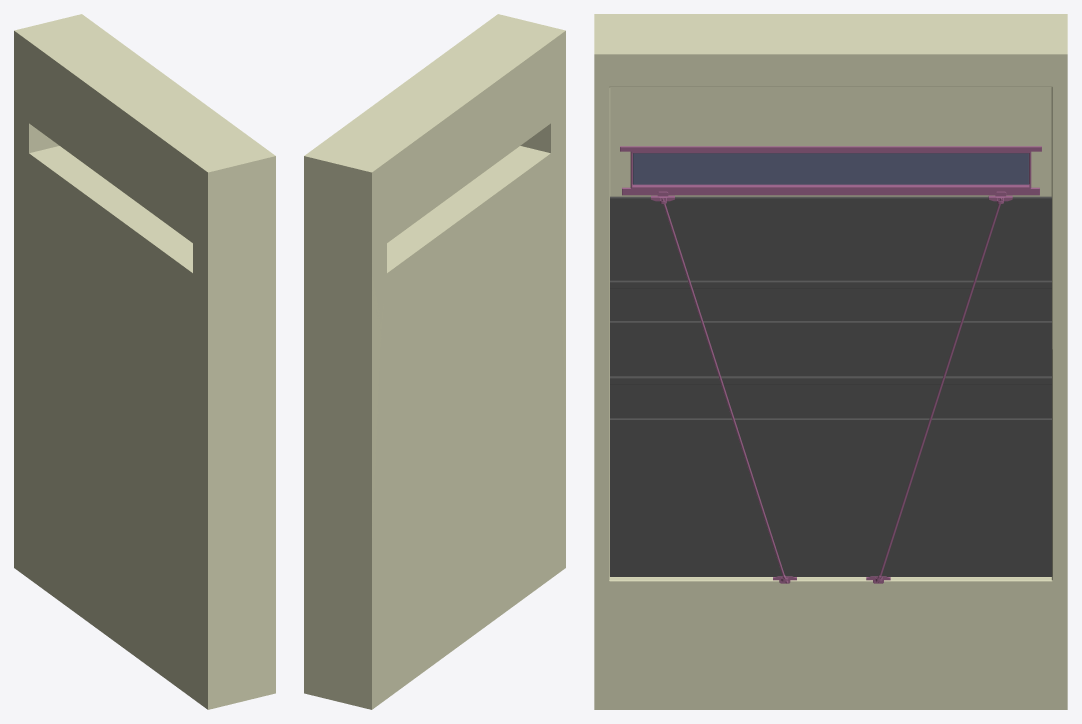
The model's file is wall_plain_Type_B_GRP.fbx.
3 renders of one model, left to right at view 1: azimuth 30°, elevation 25°; view 2: azimuth 150°, elevation 25°; view 3: azimuth 270°, elevation 25°, orthographic. The views are drawn at different scales.
Parts seen in each view (by area): view 1: main_Wall, wall_foundation; view 2: main_Wall, wall_foundation; view 3: wall_protection, main_Wall, wall_foundation, window_glass, window_pane, window_reachers.
Boxes of the visible parts, <box> form: main_Wall: <box>14,14,275,644</box>; wall_foundation: <box>14,503,275,709</box>; main_Wall: <box>304,14,565,644</box>; wall_foundation: <box>304,503,565,709</box>; wall_protection: <box>610,196,1051,576</box>; main_Wall: <box>594,14,1067,630</box>; wall_foundation: <box>594,630,1067,709</box>; window_glass: <box>633,153,1028,184</box>; window_pane: <box>620,146,1041,195</box>; window_reachers: <box>661,198,1002,583</box>.
Size of the model in its own units: 132 by 917 by 600.
